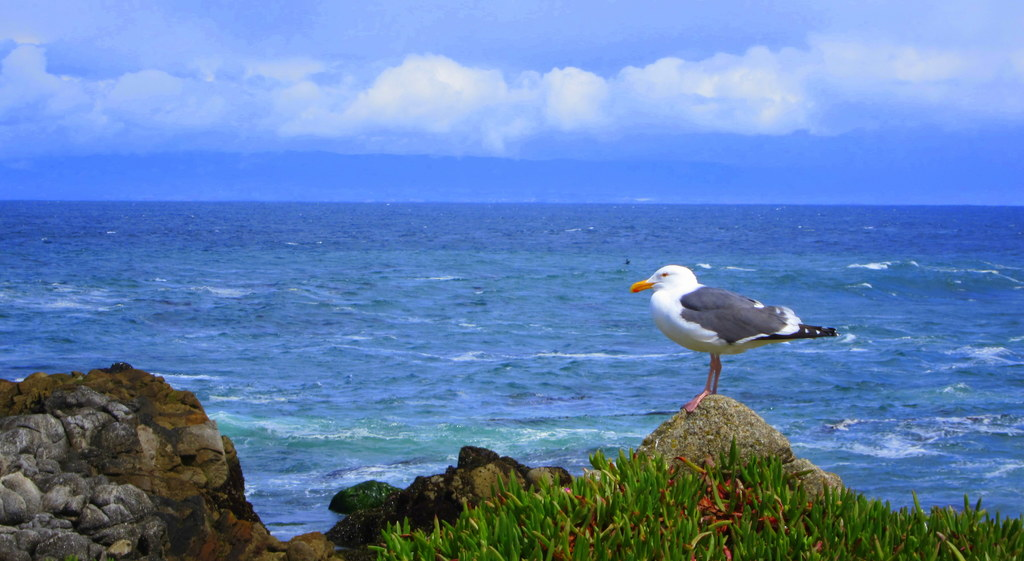Bird: (629, 264, 844, 413)
